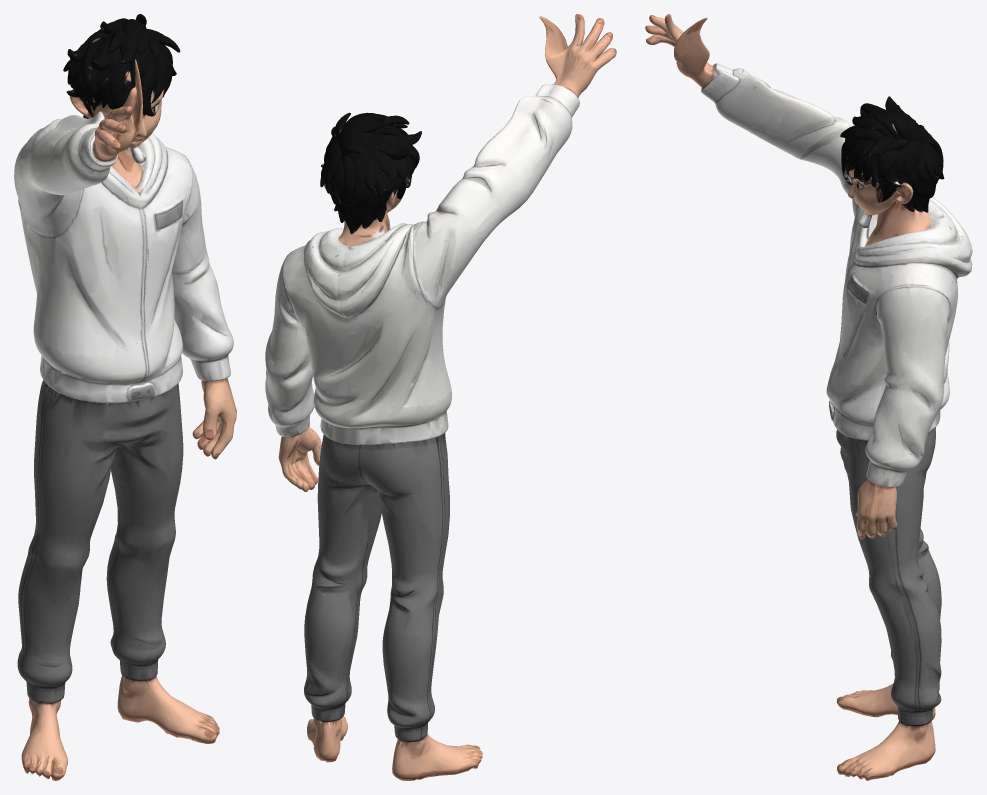
File: bookshelf.glb
3 renders of one model, left to right at view 1: azimuth 30°, elevation 25°; view 2: azimuth 150°, elevation 25°; view 3: azimuth 270°, elevation 25°, orthographic. The views are drawn at different scales.
Parts seen in each view (by area): view 1: CH_BookshelfResident; view 2: CH_BookshelfResident; view 3: CH_BookshelfResident.
Boxes of the visible parts, x1,y1,x2,y2 form: CH_BookshelfResident: [14, 14, 236, 780]; CH_BookshelfResident: [265, 14, 616, 780]; CH_BookshelfResident: [645, 14, 972, 780].
Size of the model in its own units: 0.6607 by 1.91 by 0.8217.
Materials: 1 (1 with a texture image).
